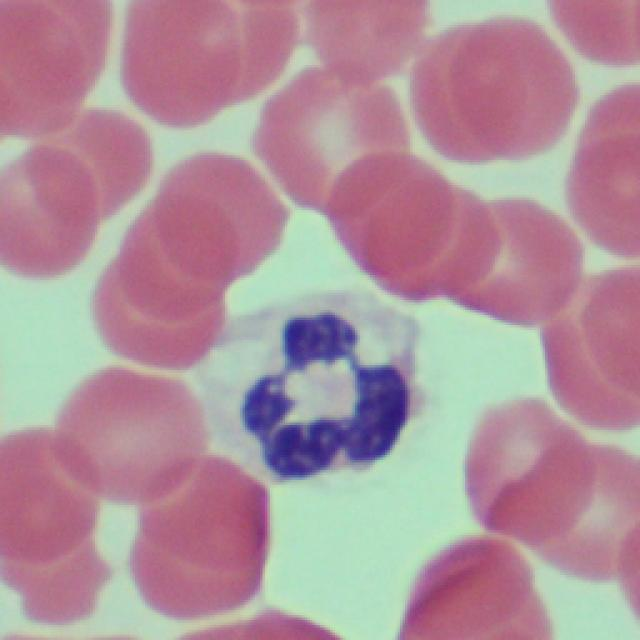RBC: (403, 16, 570, 172), (120, 449, 268, 624), (89, 186, 226, 372), (497, 410, 640, 585), (53, 359, 207, 508), (330, 147, 485, 289), (442, 178, 583, 330), (114, 2, 270, 135), (0, 424, 104, 622), (258, 66, 392, 206), (392, 528, 542, 640), (534, 274, 638, 432), (0, 0, 112, 137), (164, 138, 281, 269), (566, 77, 640, 252), (307, 0, 435, 100), (0, 152, 101, 270), (43, 112, 154, 206), (545, 0, 640, 68)
WBC: (216, 279, 441, 477)
